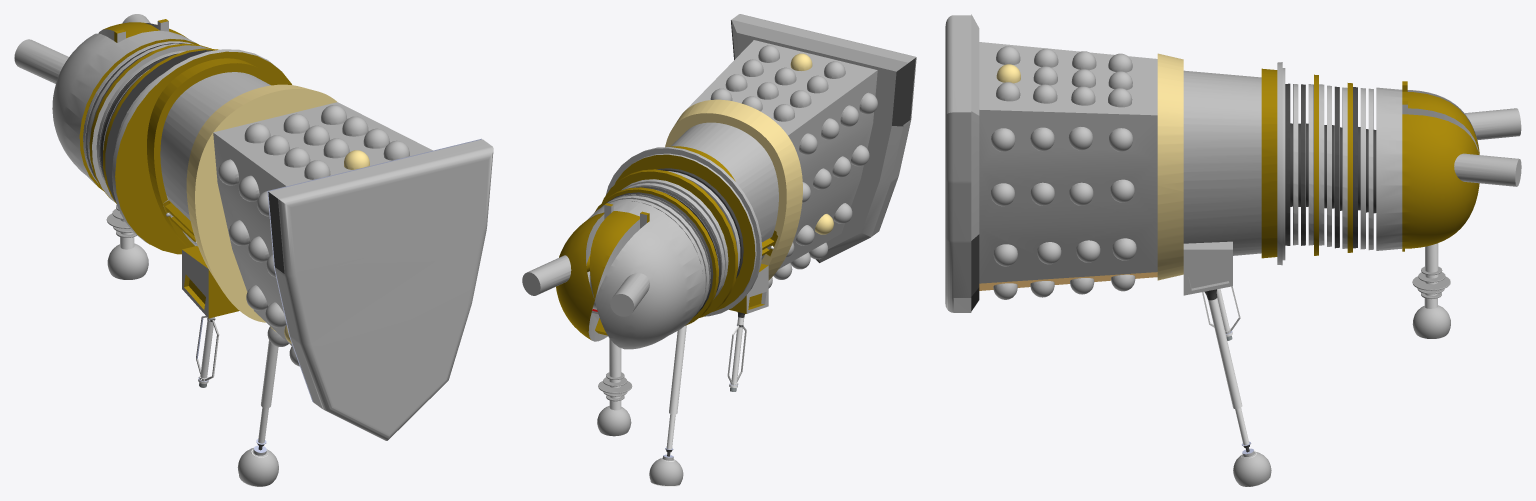
The model's file is 20984_Dalek.fbx.
3 renders of one model, left to right at view 1: azimuth 30°, elevation 25°; view 2: azimuth 150°, elevation 25°; view 3: azimuth 270°, elevation 25°, orthographic. The views are drawn at different scales.
Visible parts, largest first — view 1: obj0, obj1; view 2: obj1, obj0; view 3: obj1, obj0.
Part boxes in pixels (bbox=[...]): obj0: bbox=[213, 102, 493, 440]; obj1: bbox=[14, 14, 336, 486]; obj1: bbox=[522, 99, 802, 486]; obj0: bbox=[686, 14, 916, 288]; obj1: bbox=[1157, 53, 1521, 486]; obj0: bbox=[945, 14, 1157, 312].
Bounding box in the file's own units: 0.2254 × 0.4349 × 0.5621.
